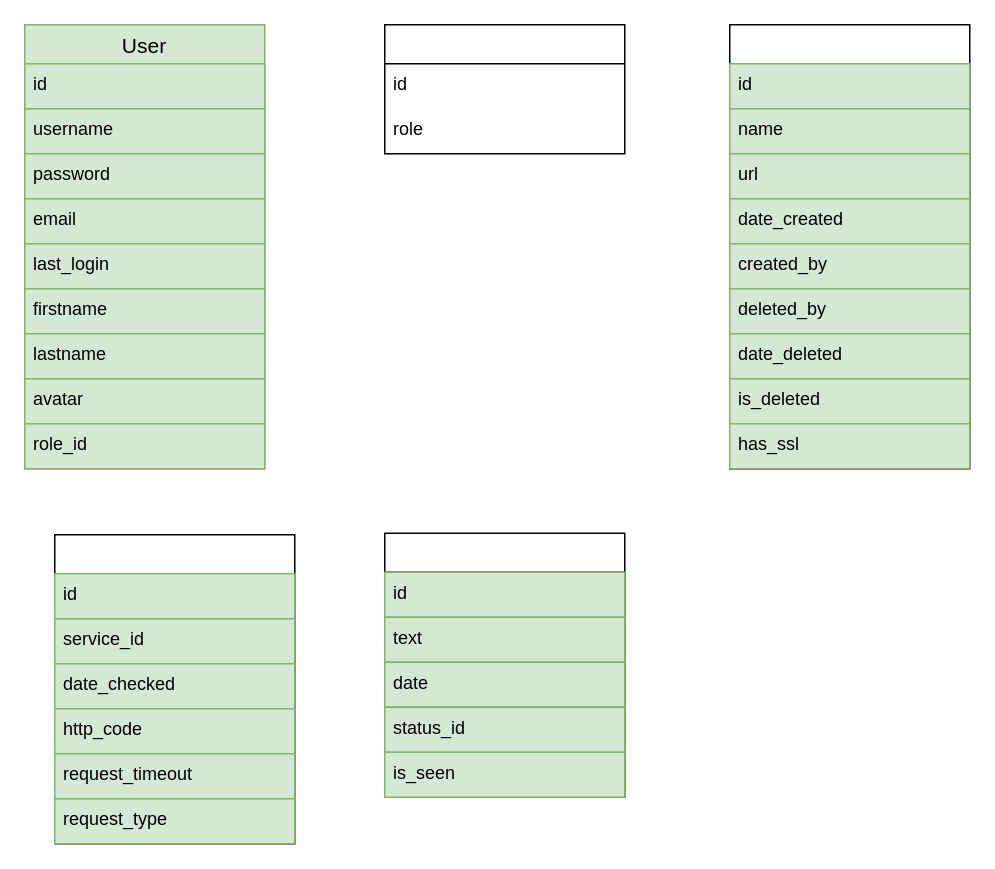
The diagram is 995 pixels wide and 869 high, and some of its shapes have lost their labels. The shapes that lost their labels are listed below. From the top down, each one's box as (x1, y1, x2, y2) in pixels, then its label:
(383, 23, 625, 154): Roles
(728, 23, 970, 469): Service
(383, 532, 625, 797): Alert
(53, 533, 295, 844): Service_Status
